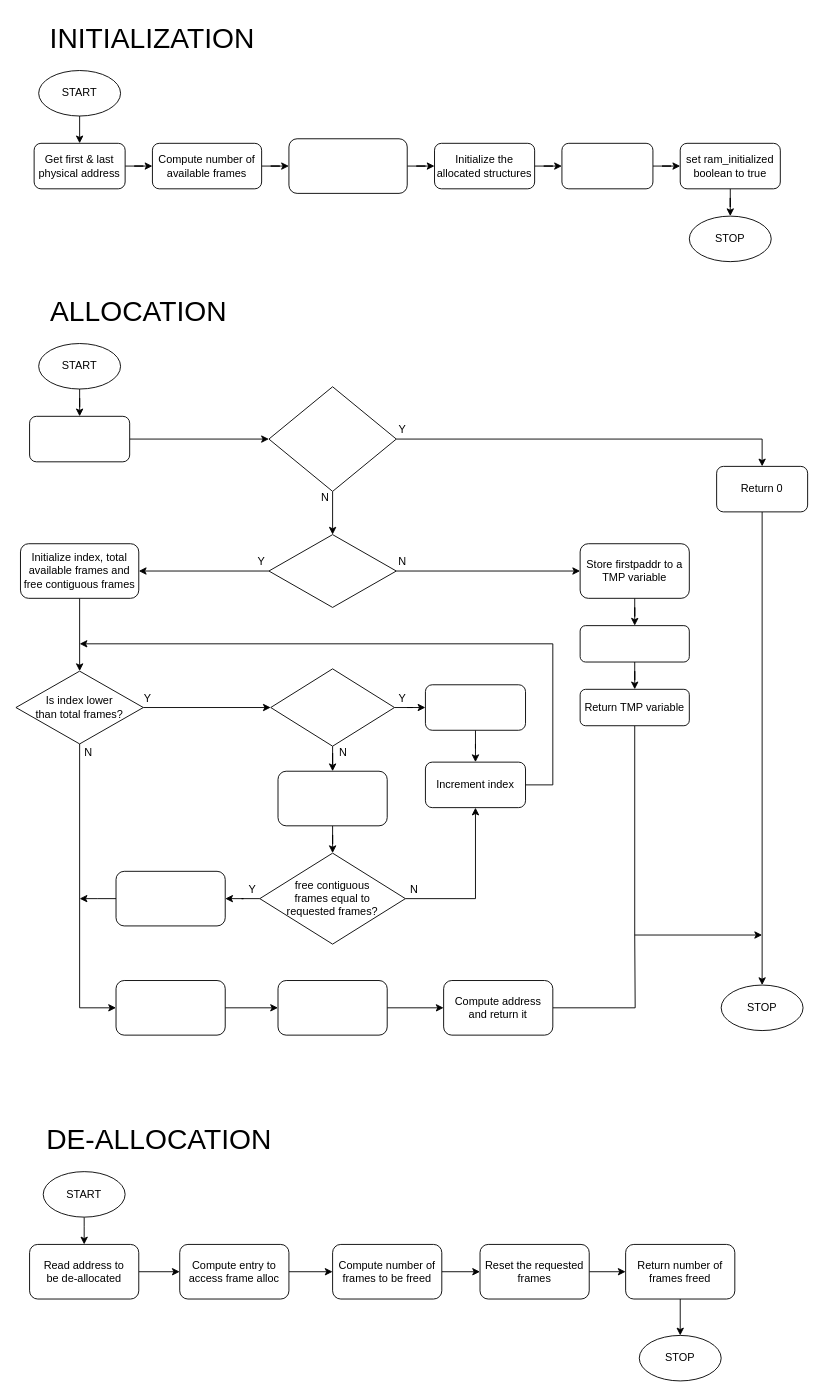
Some shapes in this 824 by 1397 pixel diagram are drawn without their labels. The shapes that lost their labels are listed below. From the top down, each one's centre as x and y in pixels, then its label:
At point 347,165: "Allocate space for memory management structures".
At point 607,165: "Set first page as allocated".
At point 79,438: "Convert requested pages to bytes".
At point 332,438: "Requested size higher than available space?".
At point 332,570: "Is memory system initialized?".
At point 634,643: "Update firstpaddr".
At point 332,707: "Is current frame allocated?".
At point 475,707: "Reset free contiguous frames".
At point 332,798: "Increment free contiguous frames".
At point 170,898: "set index to first contiguous frame".
At point 170,1007: "Set contiguous frames as allocated".
At point 332,1007: "Update allocated size".
